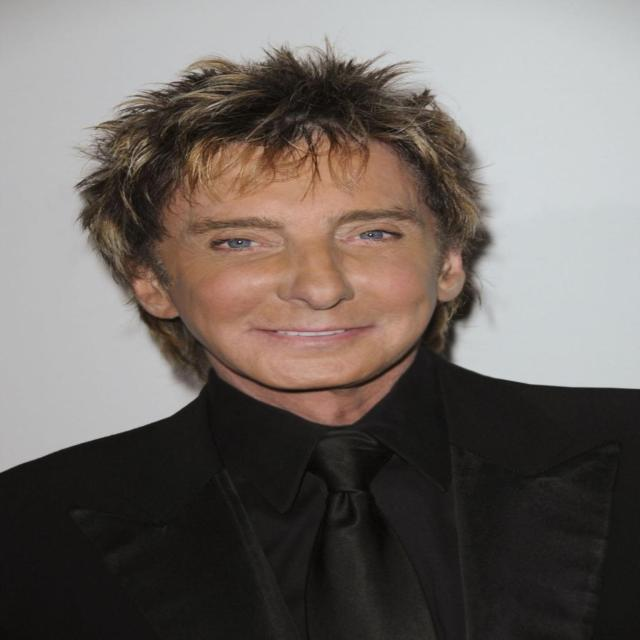Face: (97, 115, 459, 423)
